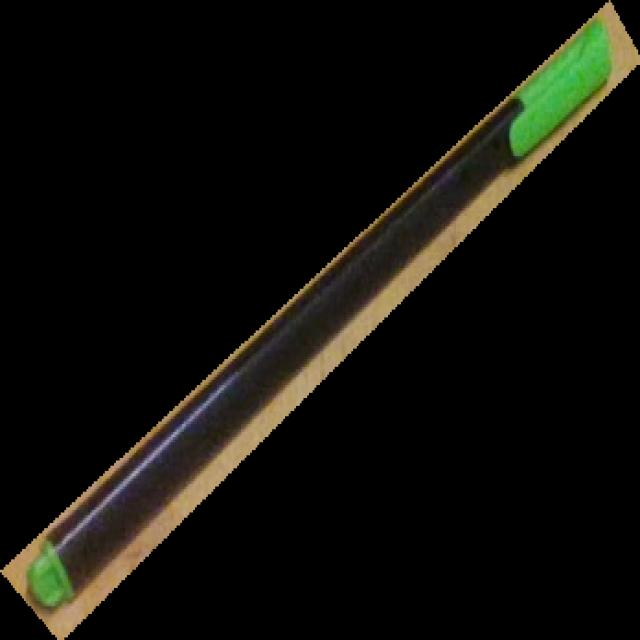green: (0, 1, 640, 640)
